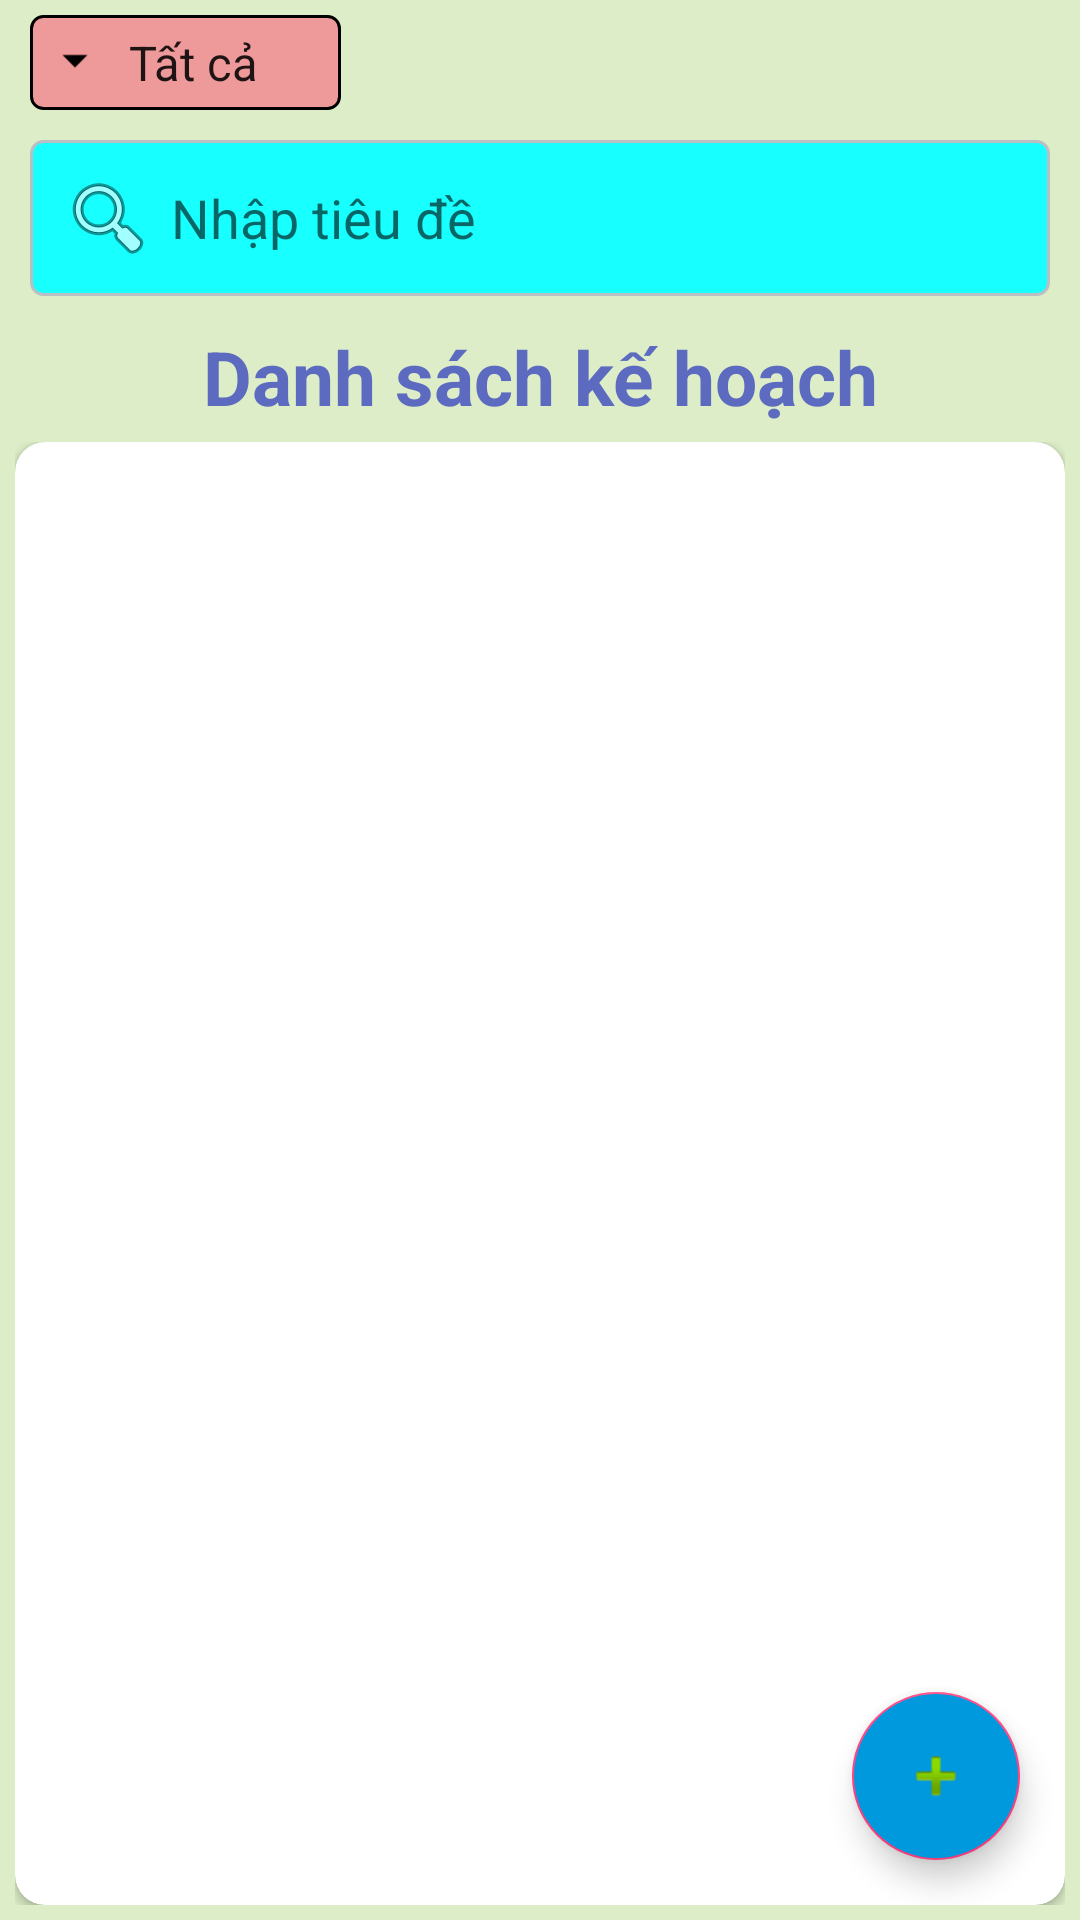

Icon bounding boxes for this 1080 × 1920 phone screenshot, format (x1, y1, x2, y2):
add: (852, 1692, 1020, 1860)
drop down: (63, 54, 87, 68)
